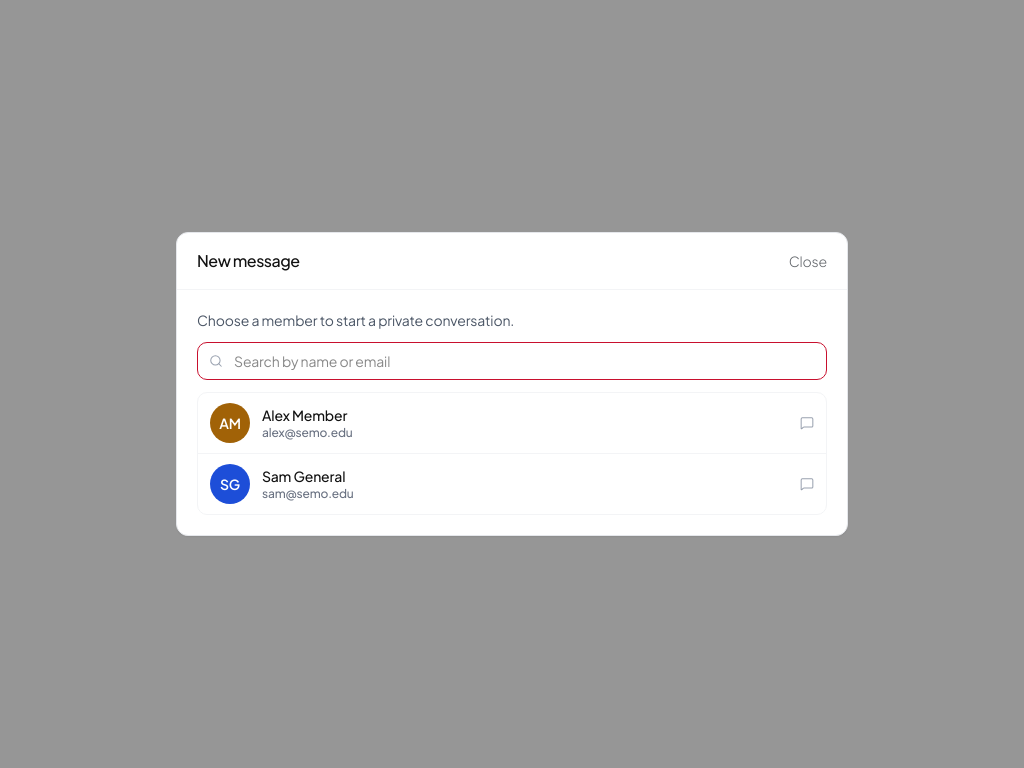
Test: NewDirectMessageModal › filters contacts by search query
This screenshot has width=1024, height=768.
Expected: the text "Alex Member" is shown, [262,406,347,424]
Type "sam" into the search field with placeholder "Search by name or email" at (512, 361), box [197,342,827,380]
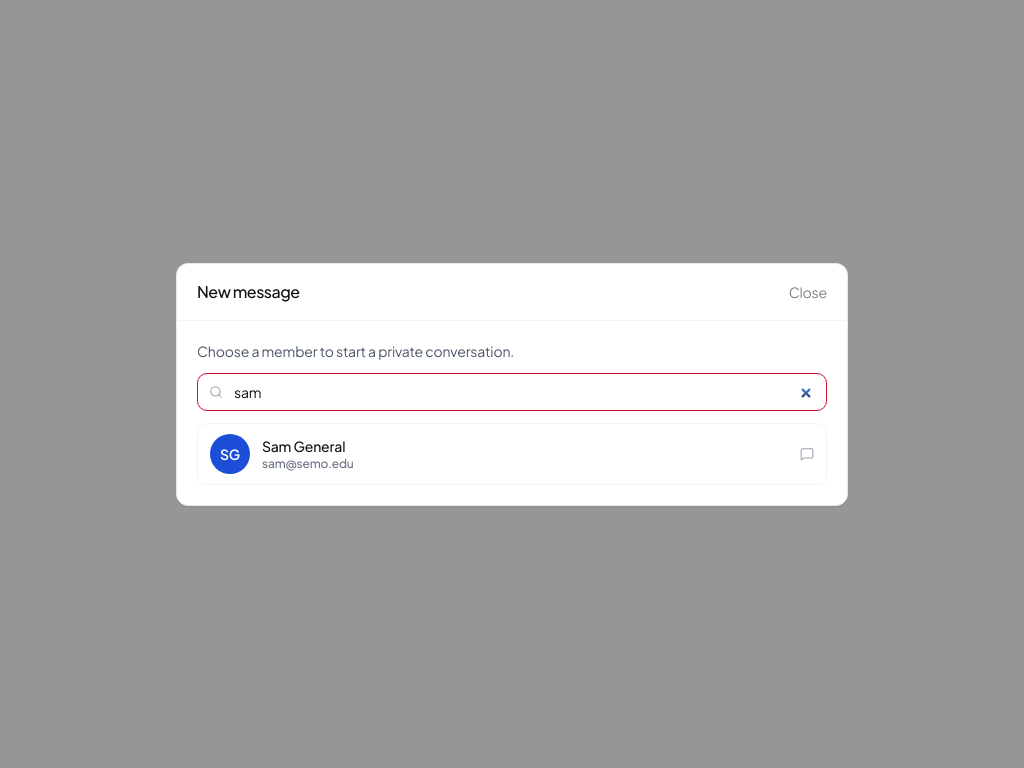
Expected: the text "Sam General" is shown, [262,436,345,454]
Expected: the option "Alex Member" is gone
